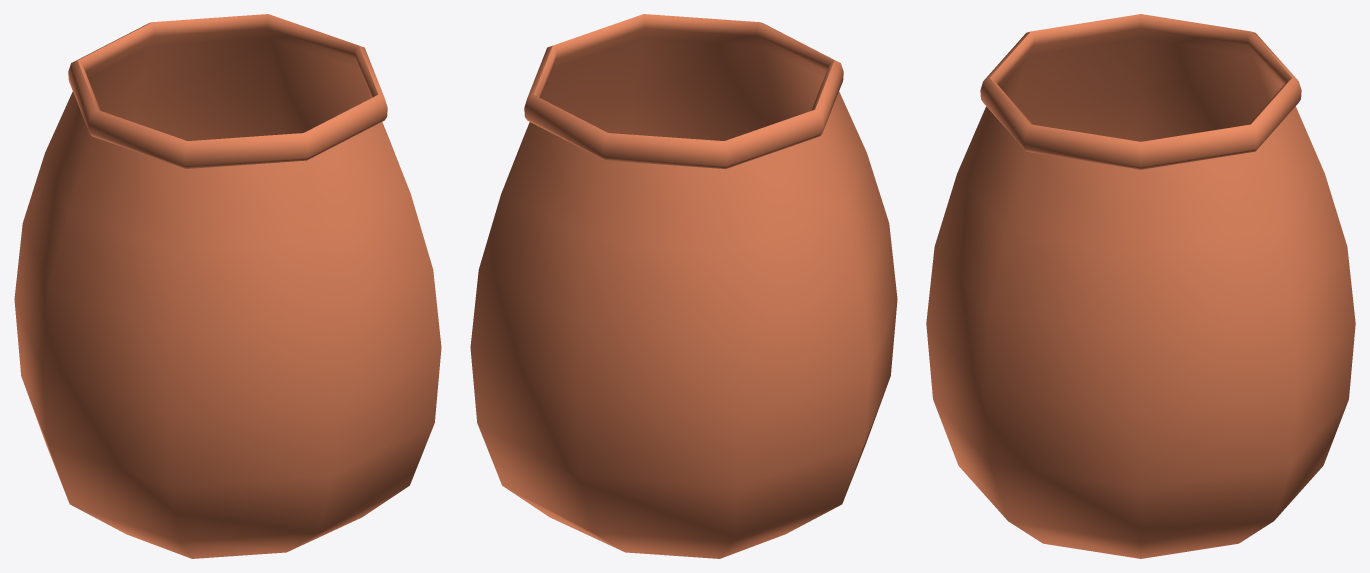
File: basket.fbx
The picture shows the model from 3 angles, left to right: view 1: azimuth 30°, elevation 25°; view 2: azimuth 150°, elevation 25°; view 3: azimuth 270°, elevation 25°; orthographic projection.
Visible parts, largest first — view 1: Cube.127; view 2: Cube.127; view 3: Cube.127.
Boxes of the visible parts, x1,y1,x2,y2 form: Cube.127: (14, 14, 441, 558); Cube.127: (470, 14, 897, 558); Cube.127: (926, 14, 1355, 558).
Bounding box in the file's own units: 254 × 291 × 254.
